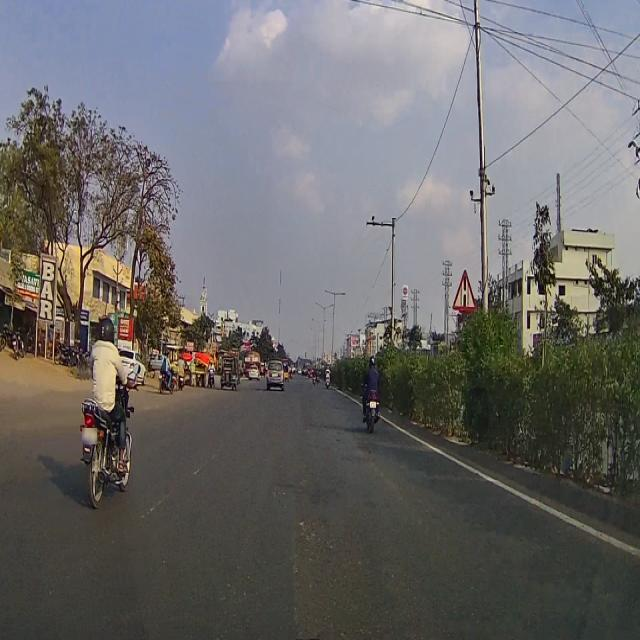gap-in-median: (454, 268, 476, 308)
